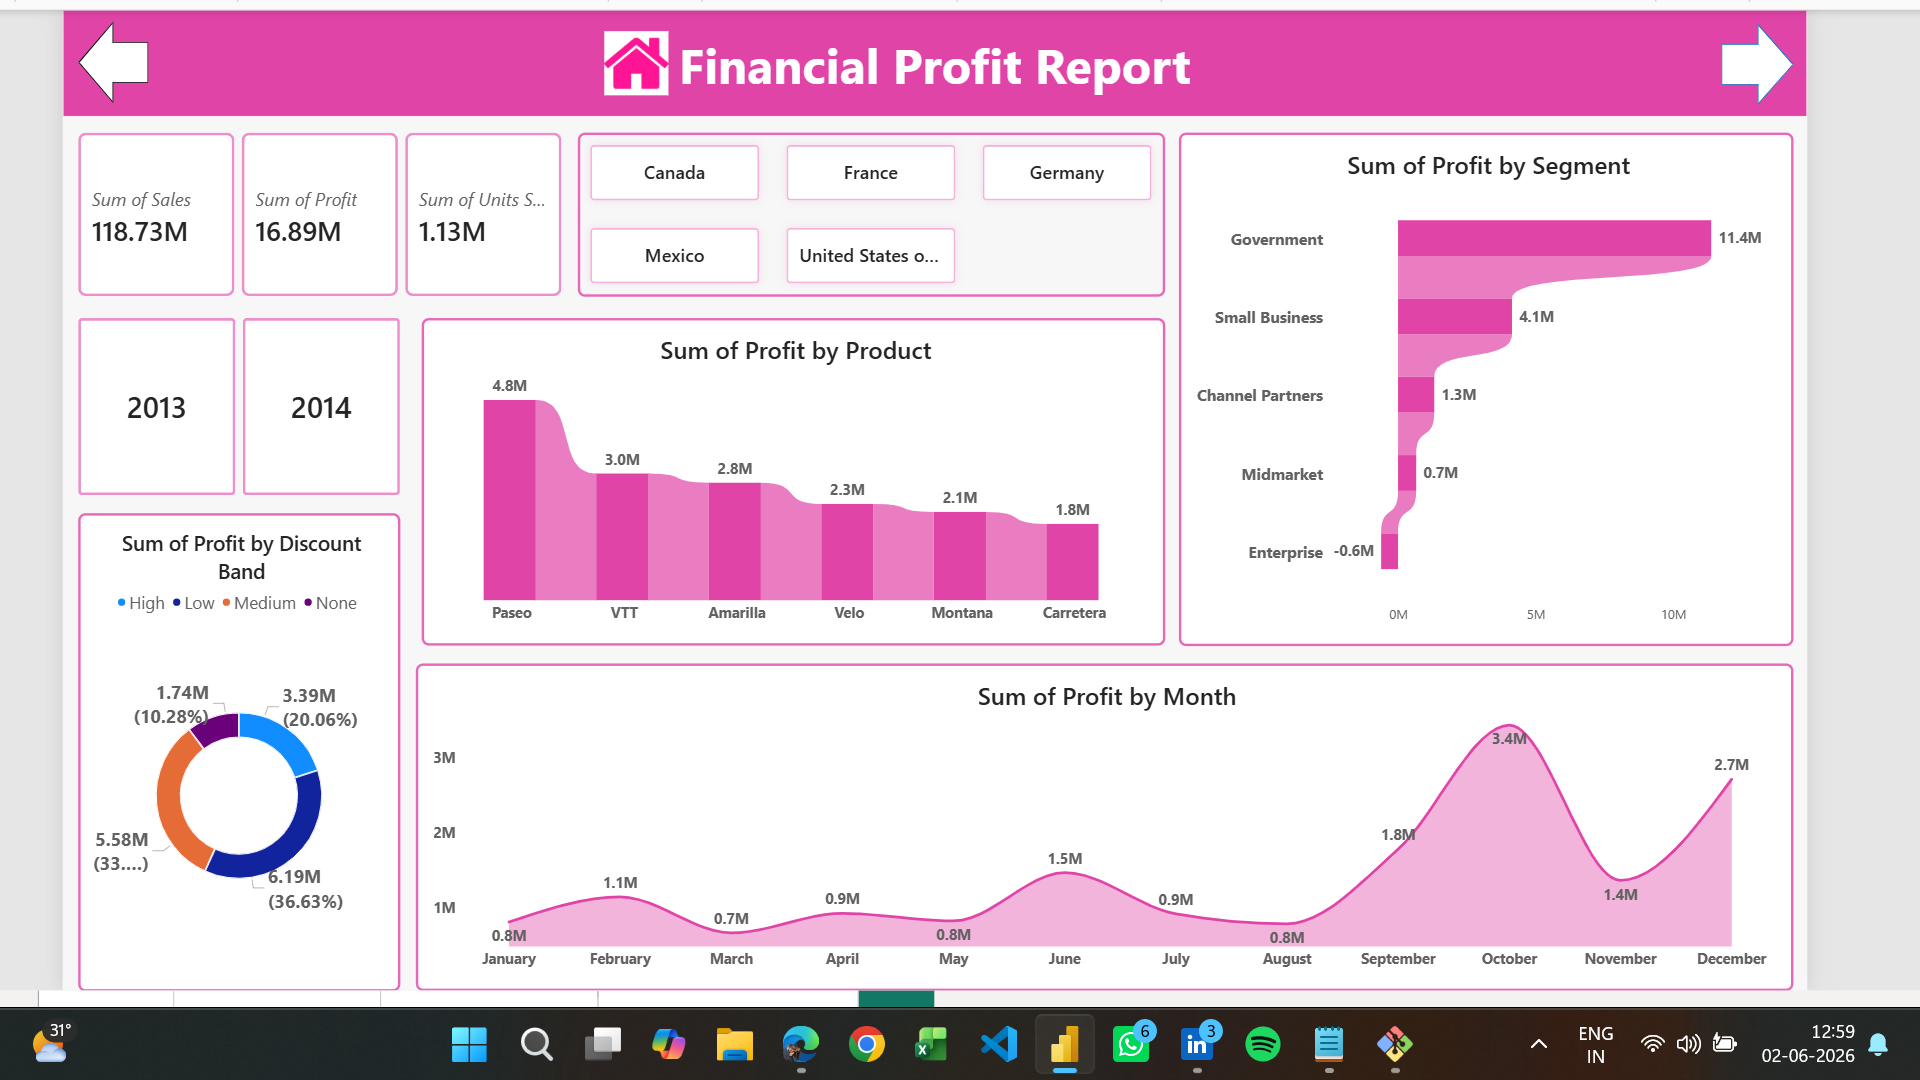

Layout of this report page (visuals, bound fields, positions):
{"tool":"powerbi","page":{"name":"Profit Report","canvas":[1920,1080],"ordinal":2},"visuals":[{"type":"shape","box":[0,0,1920.8,118],"z":0},{"type":"image","box":[593,23.6,77.3,70.9],"z":1000},{"type":"shape","box":[1826.3,15,79.5,90.2],"z":2000},{"type":"shape","box":[17.2,12.9,77.3,90.2],"z":3000},{"type":"cardVisual","fields":{"Data":["Sum(financials.Sales)","Sum(financials.Profit)","Sum(financials.Units Sold)"]},"box":[17.2,135.4,532.8,180.5],"z":4000},{"type":"advancedSlicerVisual","fields":{"Values":["financials.Year"]},"box":[17.2,339.5,354.5,195.5],"z":6000},{"type":"donutChart","fields":{"Series":["financials.Discount Band"],"Y":["Sum(financials.Profit)"]},"box":[17.2,553.6,354.5,526.4],"z":7000},{"type":"columnChart","fields":{"Category":["financials.Product"],"Y":["Sum(financials.Profit)"]},"box":[395.3,339.5,818.6,361],"z":8000},{"type":"areaChart","fields":{"Category":["financials.Date.Variation.Date Hierarchy.Month"],"Y":["Sum(financials.Profit)"]},"box":[388.9,719,1516.9,361],"z":9000},{"type":"barChart","fields":{"Category":["financials.Segment"],"Y":["Sum(financials.Profit)"]},"box":[1229,135.4,676.8,565.1],"z":10000},{"type":"advancedSlicerVisual","fields":{"Values":["financials.Country"]},"box":[567.2,135.4,646.7,180.5],"z":10001}]}

Visuals, with their boxes on the page's 1920x1080 design canvas (x1, y1, x2, y2). These are canvas units, not pixel positions in the 1920x1080 screenshot, which may show the page scaled, cropped or inside an application window:
shape: detection(0, 0, 1921, 118)
image: detection(593, 24, 670, 94)
shape: detection(1826, 15, 1906, 105)
shape: detection(17, 13, 94, 103)
cardVisual - Sum(financials.Sales) x Sum(financials.Profit): detection(17, 135, 550, 316)
advancedSlicerVisual - financials.Year: detection(17, 340, 372, 535)
donutChart - financials.Discount Band x Sum(financials.Profit): detection(17, 554, 372, 1080)
columnChart - financials.Product x Sum(financials.Profit): detection(395, 340, 1214, 700)
areaChart - financials.Date.Variation.Date Hierarchy.Month x Sum(financials.Profit): detection(389, 719, 1906, 1080)
barChart - financials.Segment x Sum(financials.Profit): detection(1229, 135, 1906, 700)
advancedSlicerVisual - financials.Country: detection(567, 135, 1214, 316)
